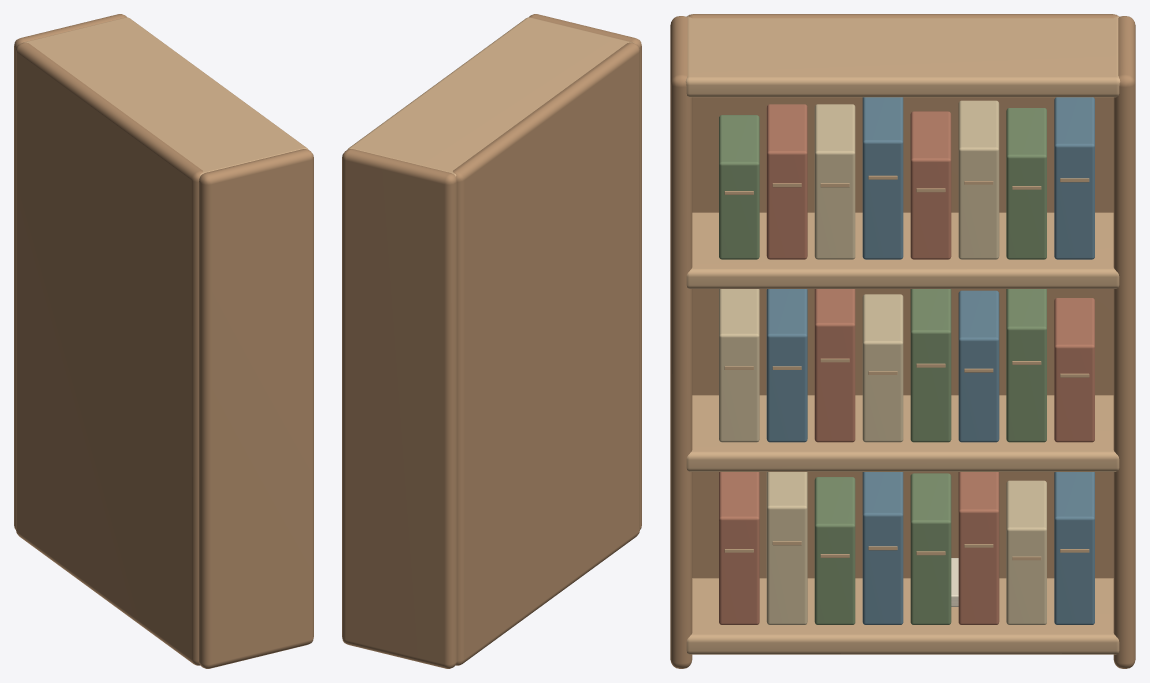
File: shelf-props.glb
The picture shows the model from 3 angles, left to right: view 1: azimuth 30°, elevation 25°; view 2: azimuth 150°, elevation 25°; view 3: azimuth 270°, elevation 25°; orthographic projection. The views are drawn at different scales.
Parts seen in each view (by area): view 1: Shelf.Static.Library | honey oak, Shelf.Static.Library | warm edge; view 2: Shelf.Static.Library | honey oak, Shelf.Static.Library | warm edge; view 3: Shelf.Static.Library | warm edge, Shelf.Static.Library | honey oak, Shelf.Static.Library | slate cloth book, Shelf.Static.Library | rust cloth book, Shelf.Static.Library | green cloth book, Shelf.Static.Library | cream cloth book, Shelf.SelectedBook.
Part boxes in pixels (x1=…): Shelf.Static.Library | honey oak: x1=14, y1=14, x2=313, y2=668; Shelf.Static.Library | warm edge: x1=20, y1=17, x2=308, y2=176; Shelf.Static.Library | honey oak: x1=342, y1=14, x2=641, y2=668; Shelf.Static.Library | warm edge: x1=347, y1=17, x2=635, y2=176; Shelf.Static.Library | warm edge: x1=685, y1=16, x2=1120, y2=654; Shelf.Static.Library | honey oak: x1=670, y1=14, x2=1135, y2=668; Shelf.Static.Library | slate cloth book: x1=766, y1=97, x2=1094, y2=624; Shelf.Static.Library | rust cloth book: x1=719, y1=104, x2=1094, y2=624; Shelf.Static.Library | green cloth book: x1=719, y1=108, x2=1046, y2=624; Shelf.Static.Library | cream cloth book: x1=719, y1=100, x2=1046, y2=624; Shelf.SelectedBook: x1=862, y1=294, x2=903, y2=442.
Bounding box in the file's own units: 0.4025 × 1.64 × 1.16.
